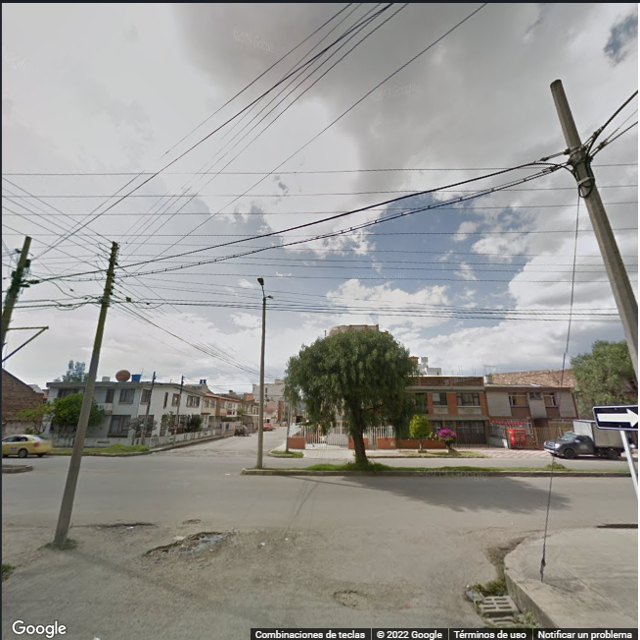D40: (136, 527, 235, 561), (335, 584, 383, 615)
